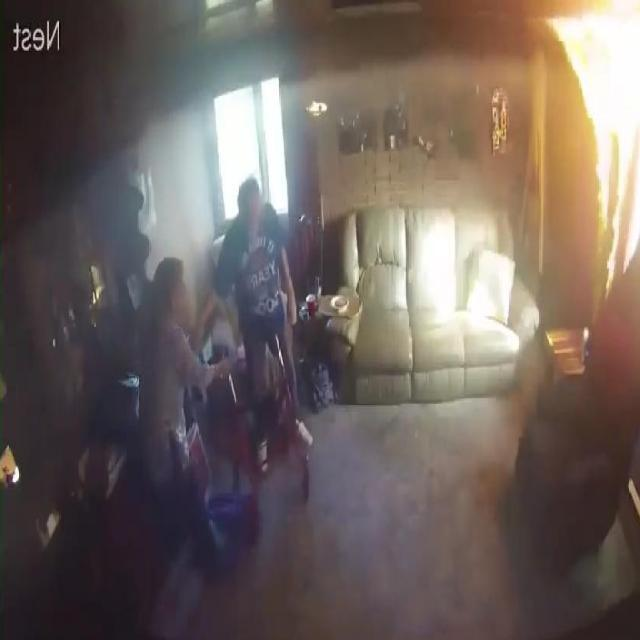smoke: (545, 1, 640, 292)
